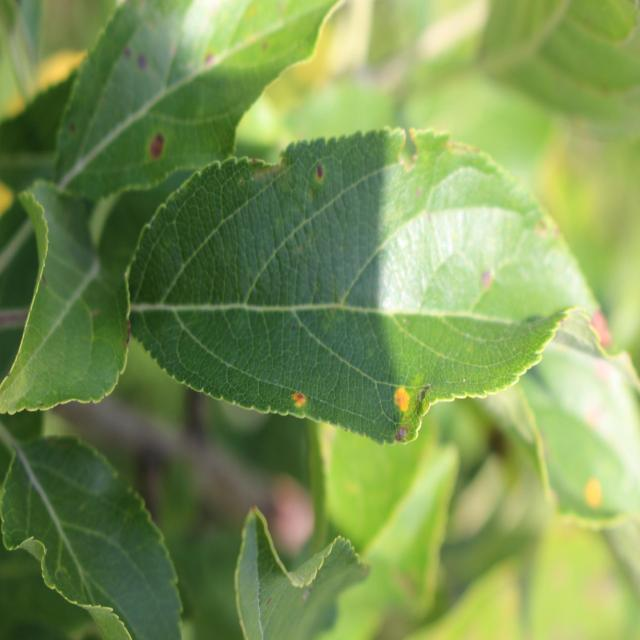Rust: (385, 375, 414, 423), (308, 150, 333, 191), (289, 385, 311, 418)
